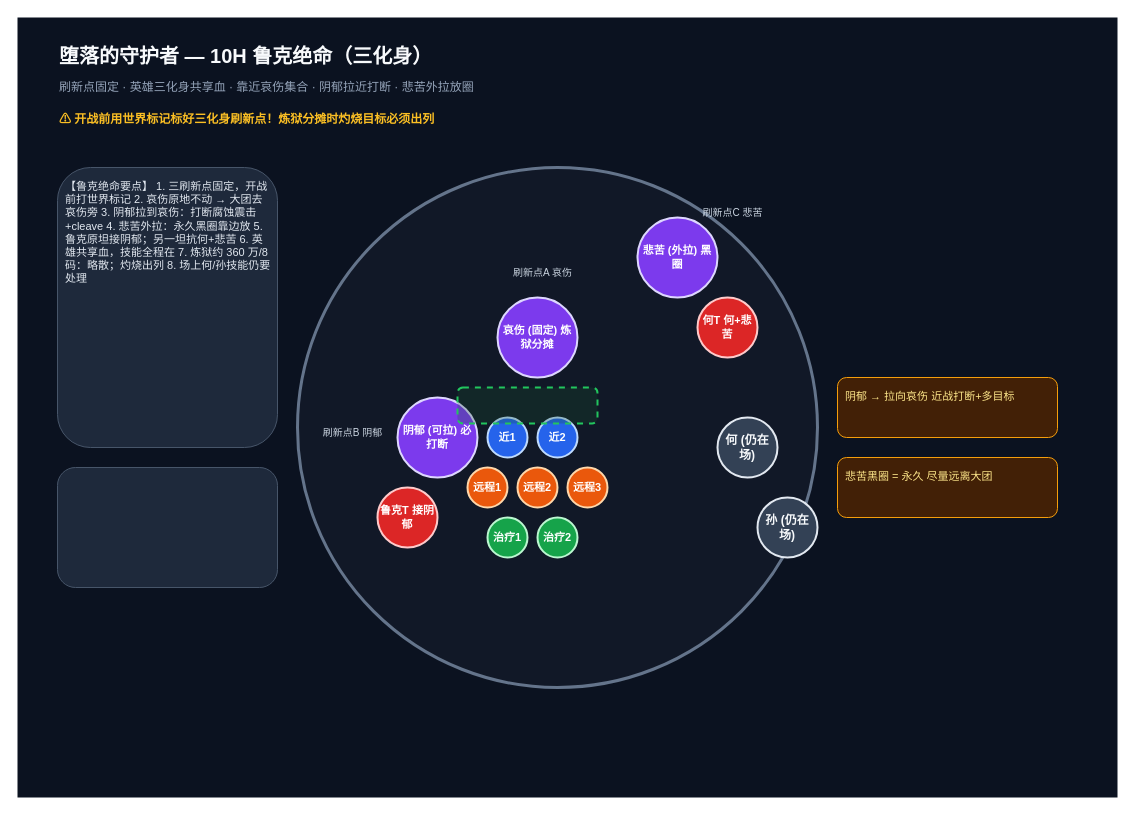
Some shapes in this 1134 by 814 pixel diagram are drawn without their labels. Each missing label, with the centre of its shape:
"【图例】 紫 = 化身 红 = 坦克 蓝/橙/绿 = 职责 虚线绿框 = 炼狱集合" belongs at point 167,527.
"炼狱 8 码分摊区 (圈内略散)" belongs at point 527,405.
